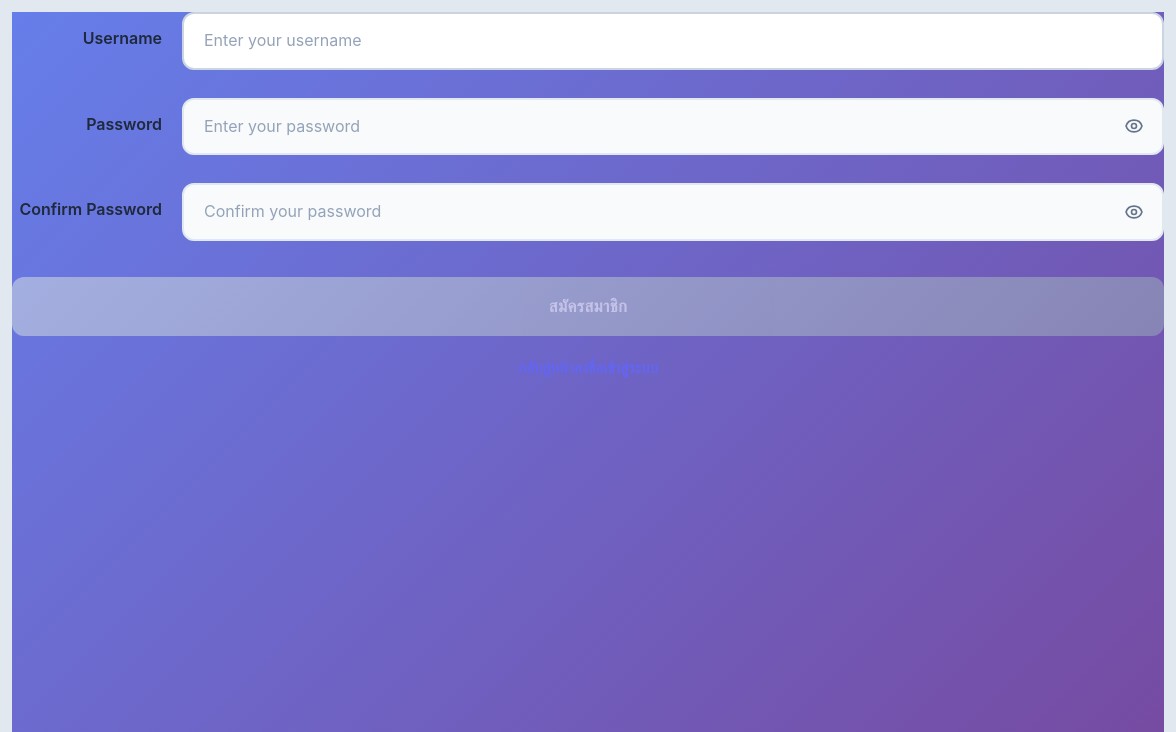
Test case: RegisterForm › validates username requirements
Step 1. Type "password123" into the password field with id "register-password" → [673, 126], box [182,98,1164,155]
Step 2. Type "password123" into the password field with id "register-confirm-password" → [673, 212], box [182,183,1164,241]
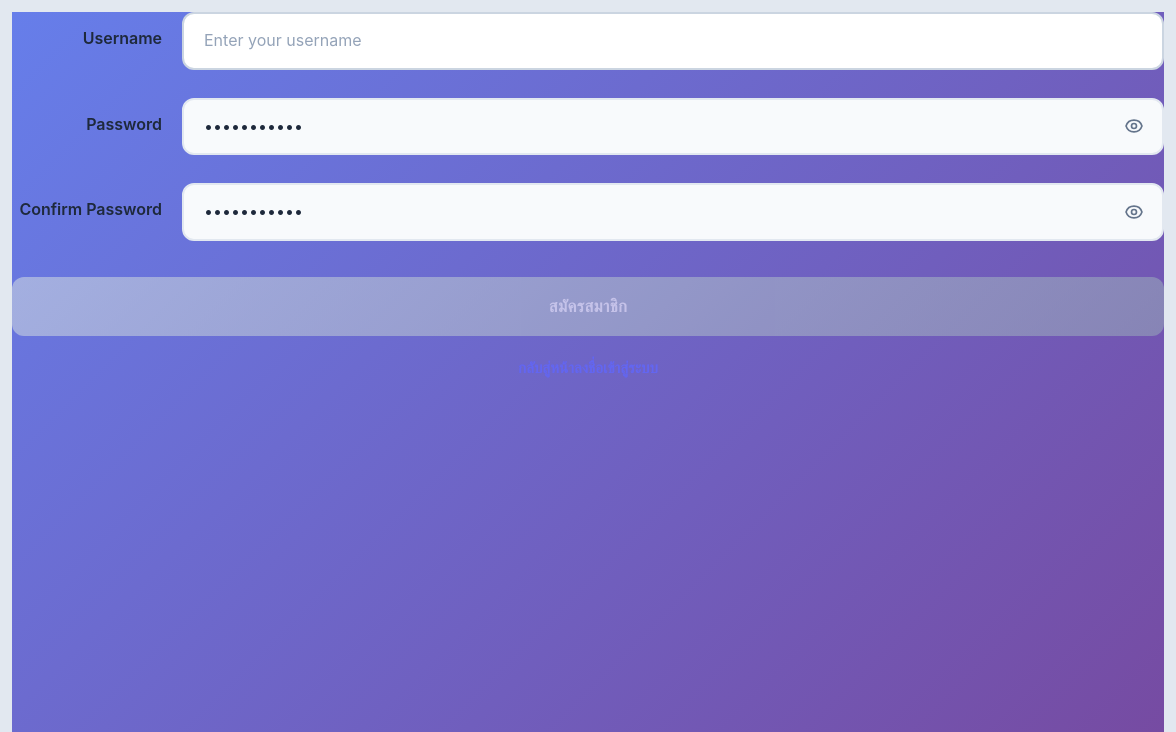
Step 3. Submit the form, box [12,12,1164,380]
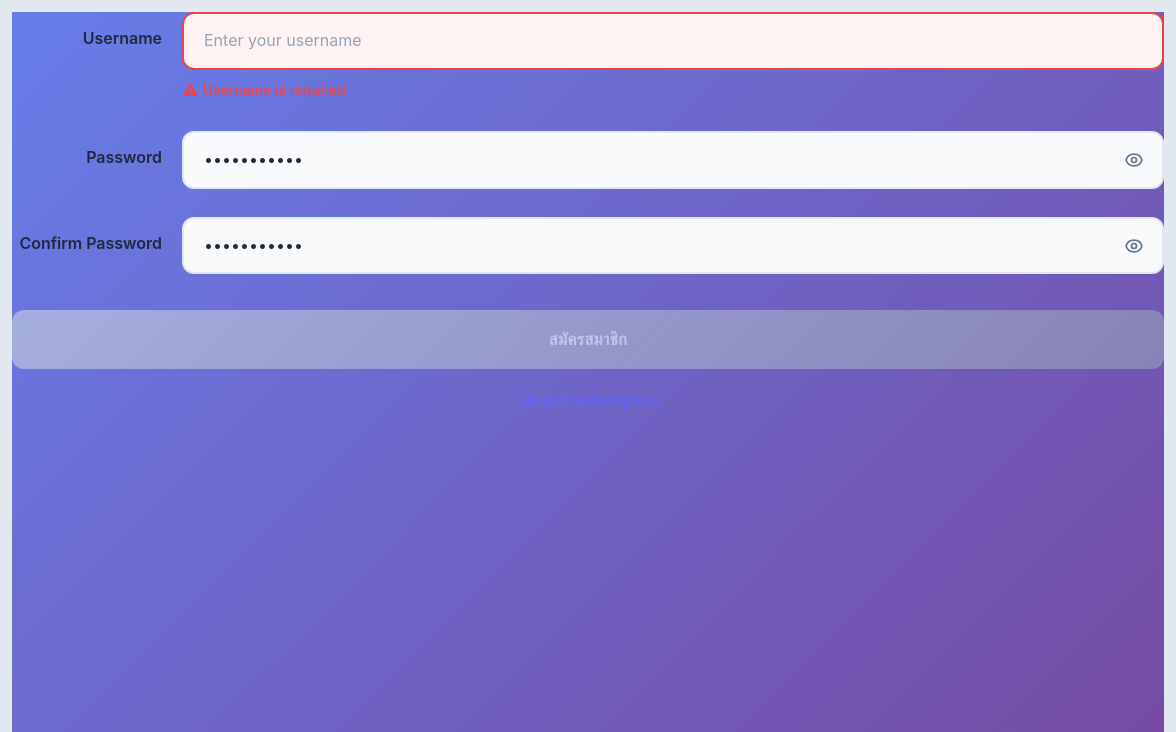
Check: the text "Username is required" is shown, box [202,81,346,98]
// Test username too short
Step 4. Type "ab" into the field with id "register-username" → [673, 41], box [182,12,1164,70]
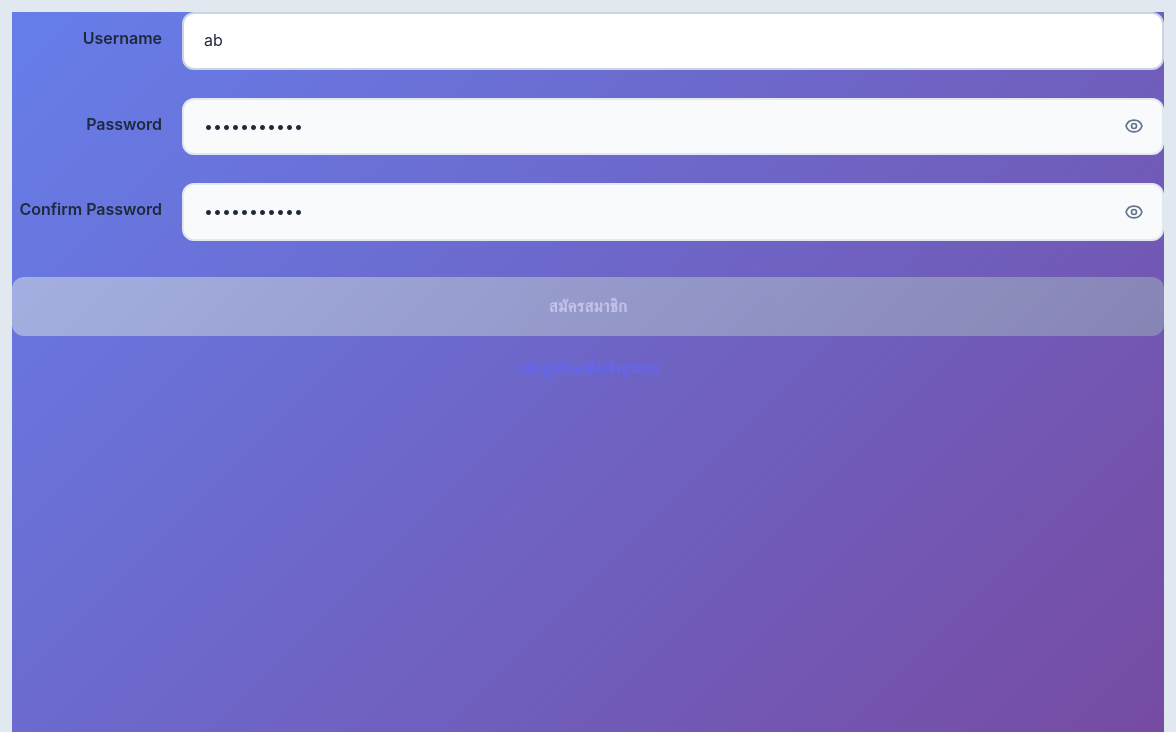
Step 5. Submit the form, box [12,12,1164,380]
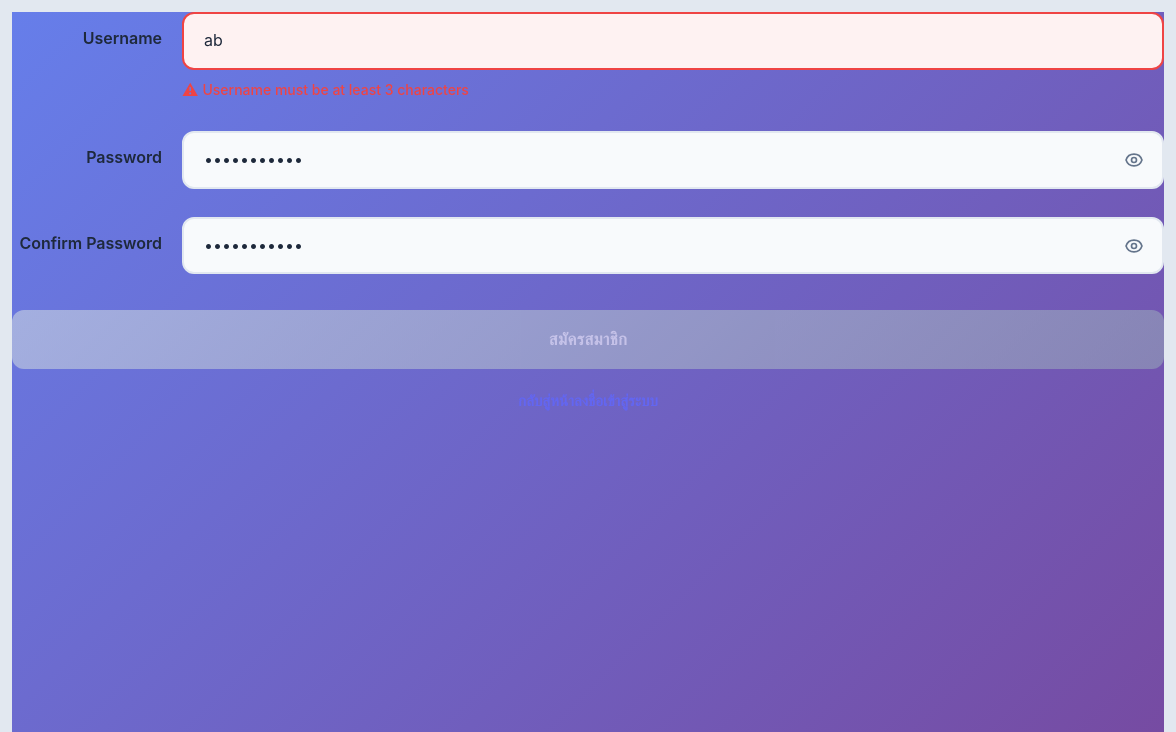
Check: the text "Username must be at least 3 characters" is shown, box [202,81,469,98]
// Test invalid characters
Step 6. Replace the text in the field with id "register-username" with "user@123" → [673, 41], box [182,12,1164,70]
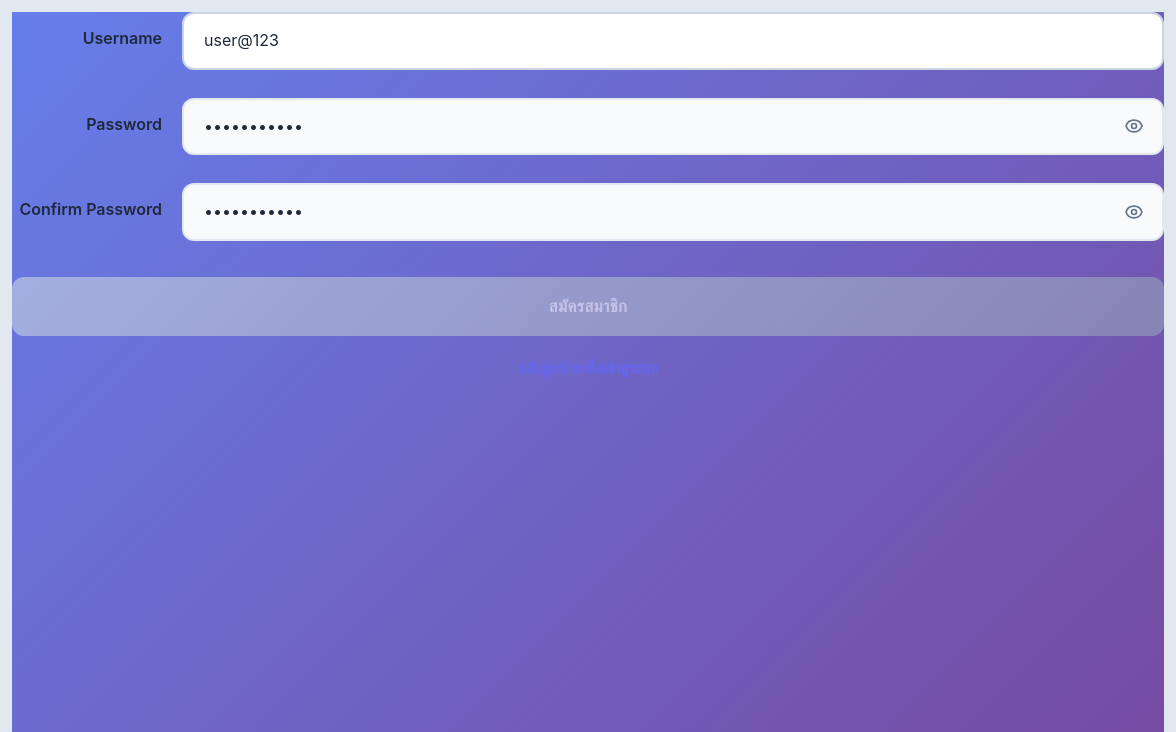
Step 7. Submit the form, box [12,12,1164,380]
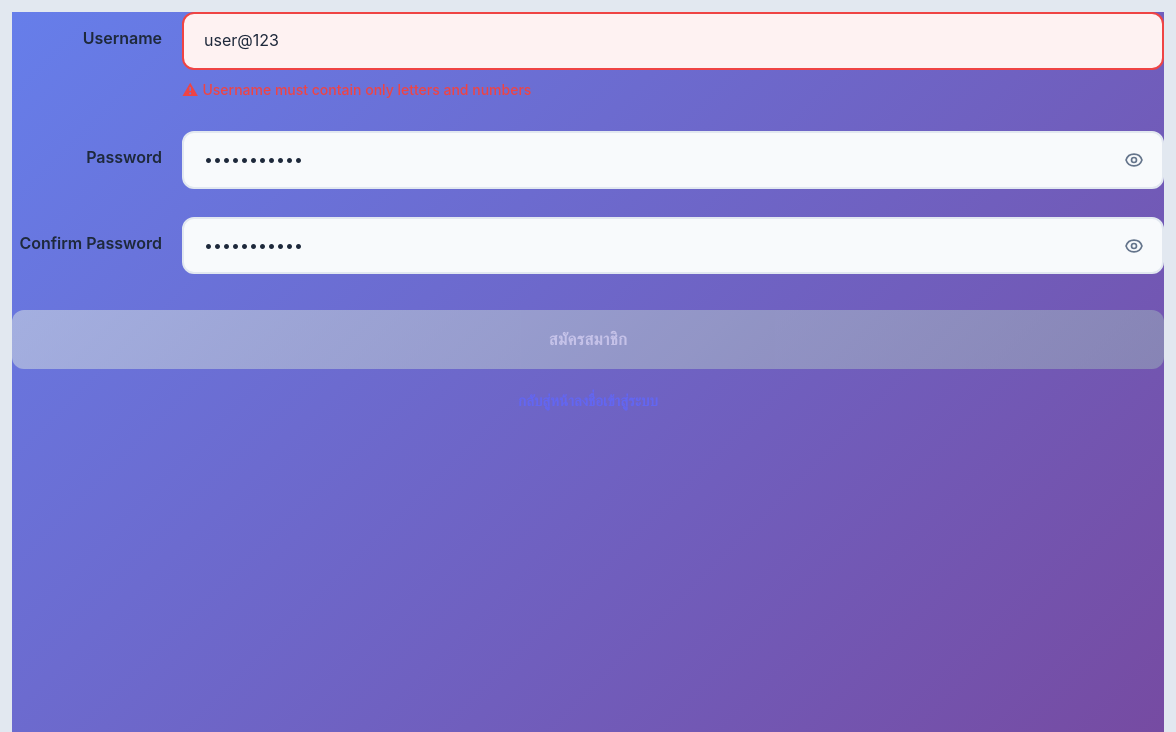
Check: the text "Username must contain only letters and numbers" is shown, box [202,81,531,98]
